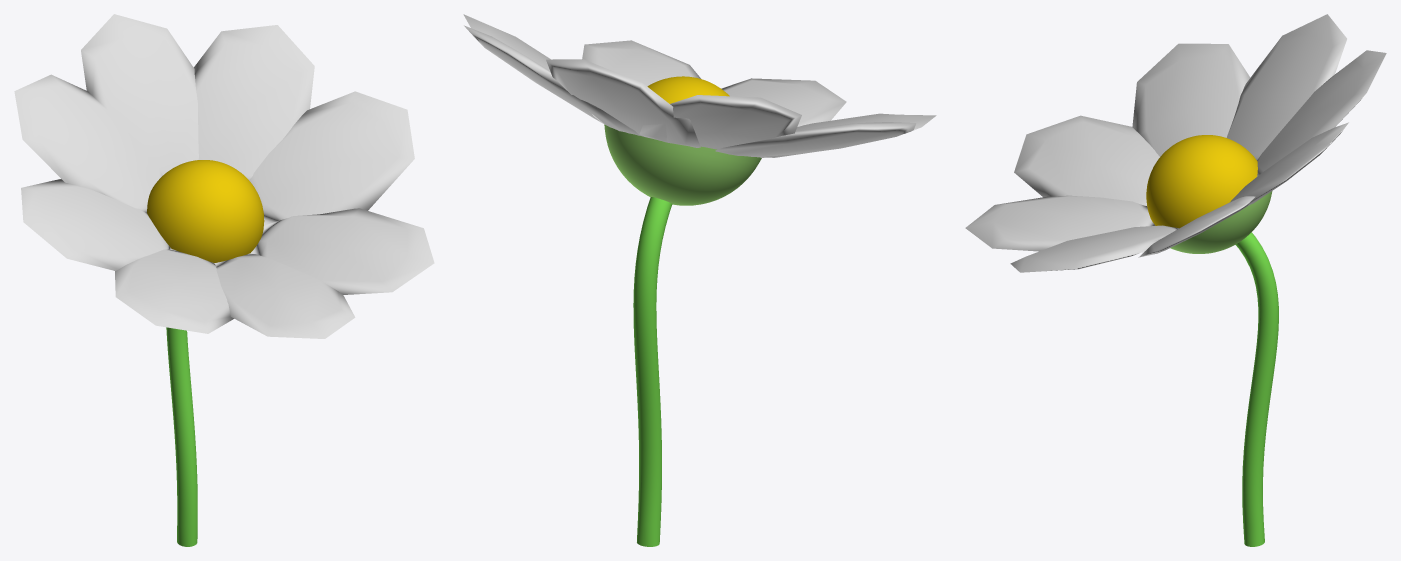
The model's file is Flower_1.fbx.
The picture shows the model from 3 angles, left to right: view 1: azimuth 30°, elevation 25°; view 2: azimuth 150°, elevation 25°; view 3: azimuth 270°, elevation 25°; orthographic projection. The views are drawn at different scales.
Parts seen in each view (by area): view 1: Cube.006; view 2: Cube.006; view 3: Cube.006.
Part boxes in pixels (left/top/right/bottom): Cube.006: left=14, top=14, right=434, bottom=546; Cube.006: left=463, top=14, right=936, bottom=546; Cube.006: left=965, top=14, right=1386, bottom=546.
Bounding box in the file's own units: 357 × 418 × 328.
